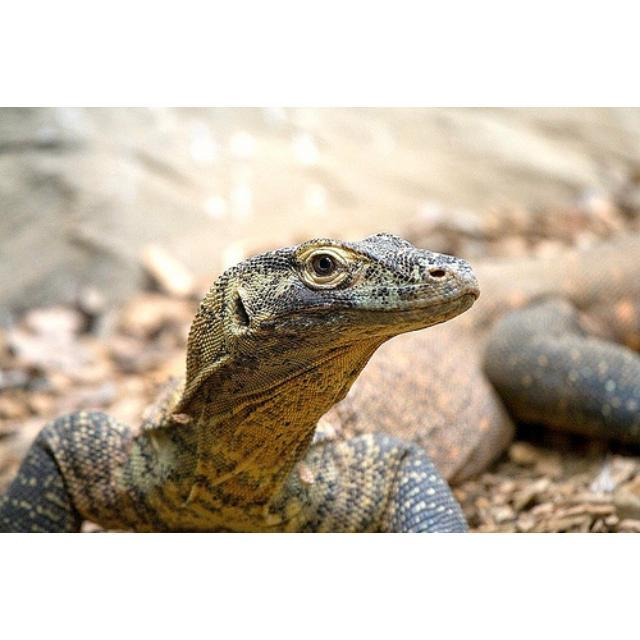KomodoDragon: (0, 233, 636, 529)
